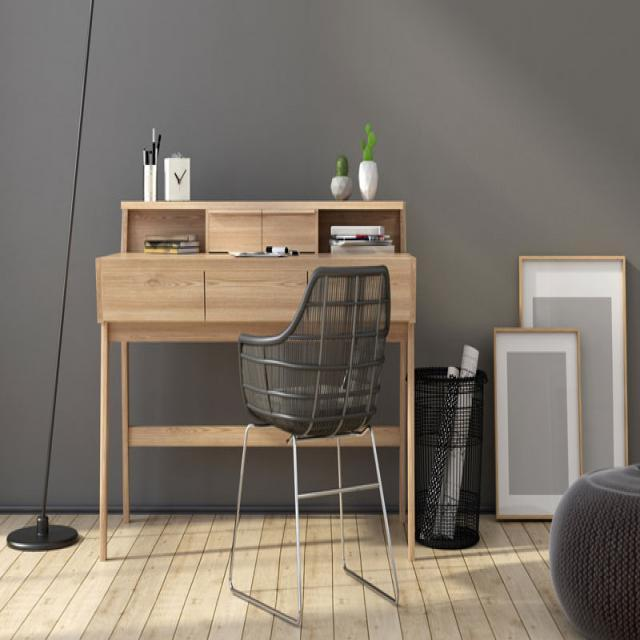table: (87, 182, 425, 384)
